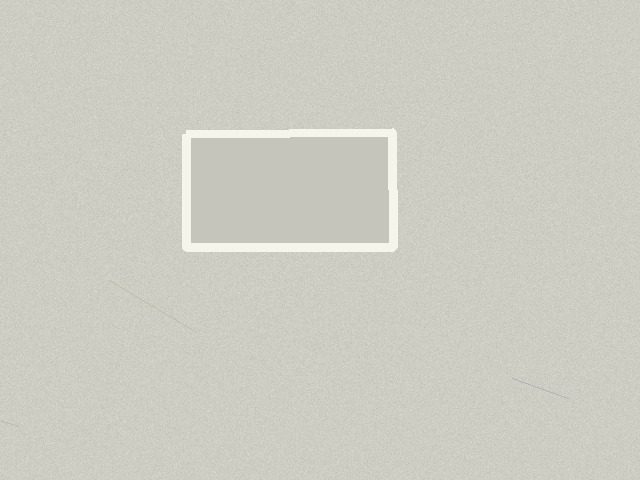parking_area: (186, 132, 393, 247)
